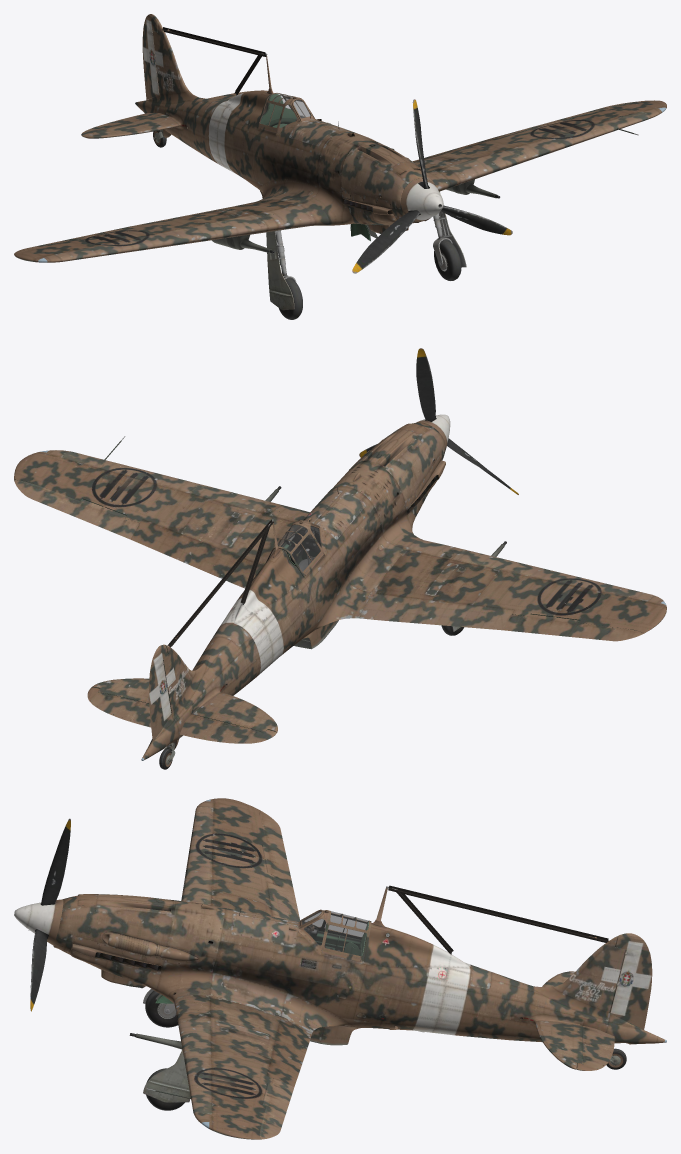
3 views of the same model, one above another, from view 1: azimuth 30°, elevation 25°; view 2: azimuth 150°, elevation 25°; view 3: azimuth 270°, elevation 25° (orthographic). The views are drawn at different scales.
Parts seen in each view (by area): view 1: fuse (×2), wing_r, wing_l, tail, prop01_1 (×4), rudder, gear_r6, wheel_l, wheel_r, antenna, elevator1, blister; view 2: fuse, wing_r, wing_l, tail, aileron_l, aileron_r, elevator1, rudder, elevator0, prop01_1, blister; view 3: fuse (×2), tail, wing_l, wing_r, prop01_1 (×3), rudder, blister (×2), aileron_r, gear_l6, aileron_l, elevator0, antenna (+1 smaller).
Boxes of the visible parts, x1=… form: fuse (×2): x1=233, y1=91, x2=434, y2=225; wing_r: x1=14, y1=195, x2=328, y2=262; wing_l: x1=412, y1=100, x2=666, y2=191; tail: x1=85, y1=21, x2=267, y2=177; prop01_1 (×4): x1=352, y1=99, x2=512, y2=273; rudder: x1=142, y1=14, x2=159, y2=99; gear_r6: x1=267, y1=259, x2=294, y2=310; wheel_l: x1=434, y1=240, x2=461, y2=280; wheel_r: x1=279, y1=278, x2=302, y2=319; antenna: x1=163, y1=27, x2=265, y2=56; elevator1: x1=81, y1=113, x2=163, y2=137; blister: x1=257, y1=93, x2=305, y2=133; fuse: x1=251, y1=422, x2=445, y2=648; wing_r: x1=345, y1=534, x2=666, y2=633; wing_l: x1=14, y1=450, x2=309, y2=588; tail: x1=92, y1=576, x2=293, y2=759; aileron_l: x1=14, y1=479, x2=139, y2=539; aileron_r: x1=502, y1=614, x2=643, y2=641; elevator1: x1=179, y1=714, x2=276, y2=743; rudder: x1=149, y1=644, x2=171, y2=740; elevator0: x1=87, y1=687, x2=151, y2=727; prop01_1: x1=416, y1=348, x2=435, y2=421; blister: x1=266, y1=523, x2=323, y2=576; fuse (×2): x1=53, y1=894, x2=415, y2=1045; tail: x1=393, y1=936, x2=664, y2=1069; wing_l: x1=168, y1=988, x2=316, y2=1139; wing_r: x1=181, y1=798, x2=299, y2=921; prop01_1 (×3): x1=14, y1=818, x2=70, y2=1011; rudder: x1=609, y1=933, x2=652, y2=1029; blister (×2): x1=321, y1=910, x2=371, y2=961; aileron_r: x1=259, y1=810, x2=294, y2=892; gear_l6: x1=143, y1=1052, x2=190, y2=1102; aileron_l: x1=259, y1=1078, x2=294, y2=1139; elevator0: x1=576, y1=1026, x2=614, y2=1070; antenna: x1=388, y1=885, x2=608, y2=942.
Bounding box in the file's own units: 415 × 341 × 144.
6 materials, 4 textured.
